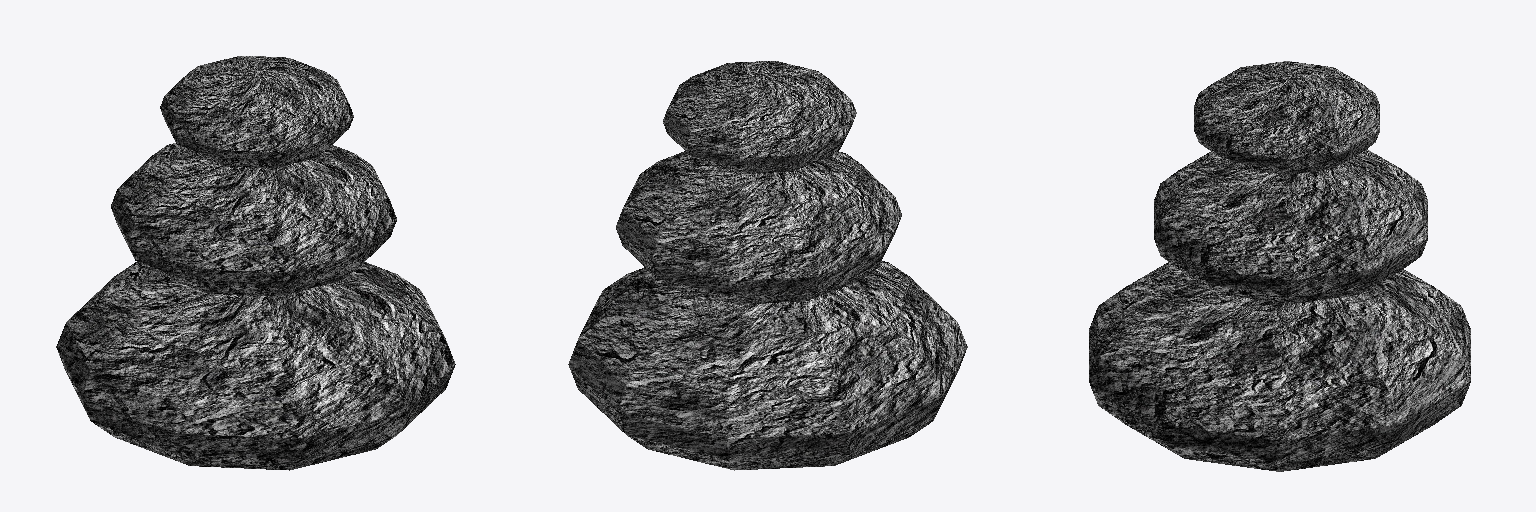
3 views of the same model, side by side, from view 1: azimuth 30°, elevation 25°; view 2: azimuth 150°, elevation 25°; view 3: azimuth 270°, elevation 25° (orthographic).
Visible parts, largest first — view 1: Roca1, Roca2, Roca3; view 2: Roca1, Roca2, Roca3; view 3: Roca1, Roca2, Roca3.
Boxes of the visible parts, box(x1,y1,x2,y2) form: Roca1: box(56, 262, 455, 470); Roca2: box(111, 143, 396, 296); Roca3: box(160, 56, 353, 168); Roca1: box(568, 261, 967, 470); Roca2: box(616, 151, 901, 304); Roca3: box(663, 61, 856, 173); Roca1: box(1089, 262, 1470, 471); Roca2: box(1154, 149, 1427, 303); Roca3: box(1194, 61, 1379, 174).
Size of the model in its own units: 9.08 by 9.01 by 8.63.
Materials: 1 (1 with a texture image).